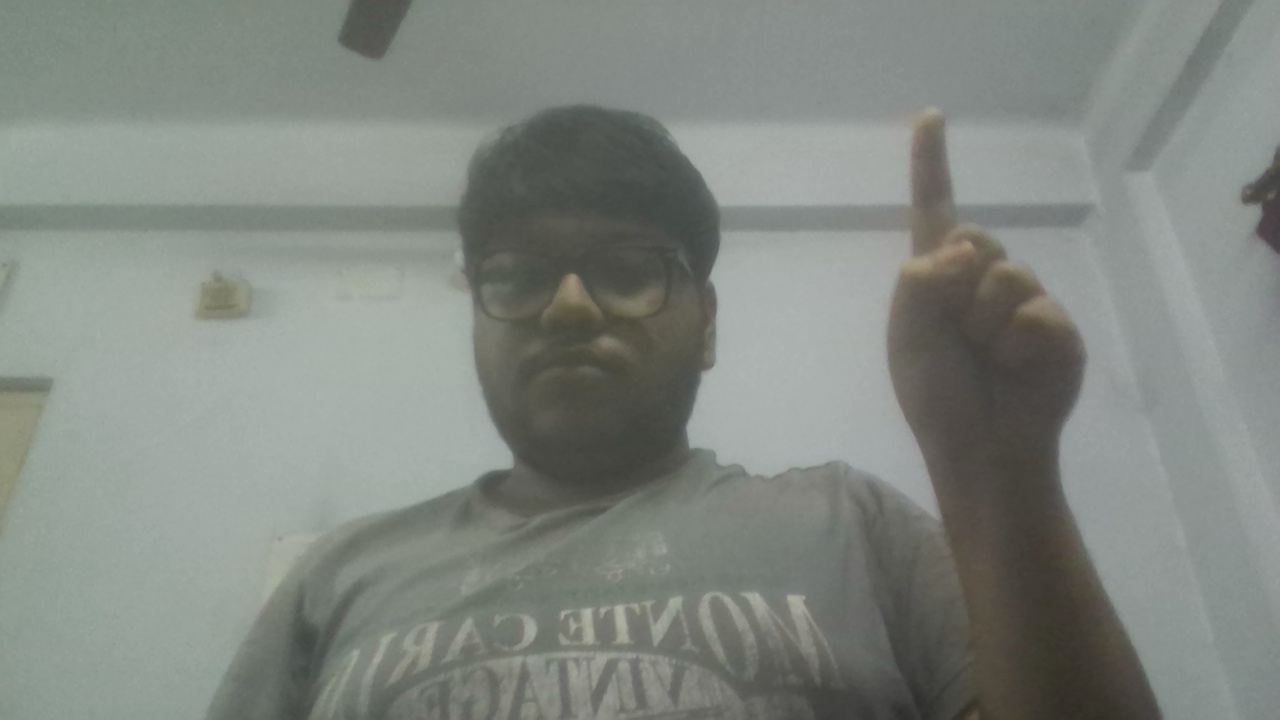Gesture1: (879, 97, 1099, 476)
